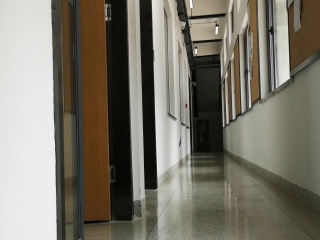room: (47, 2, 135, 230)
